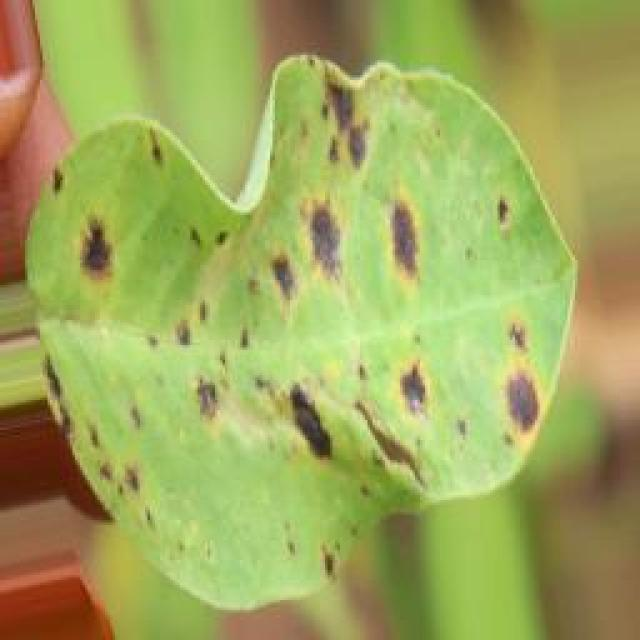Yellowish: (12, 19, 554, 594)
